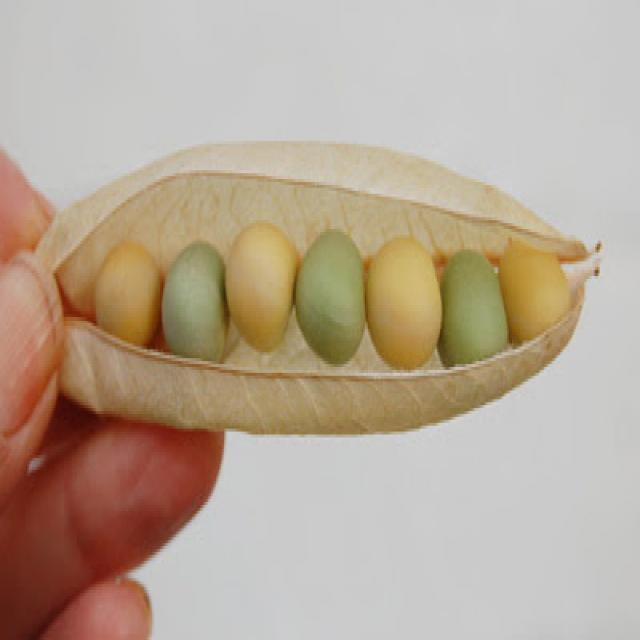Peas: (64, 136, 602, 418)
